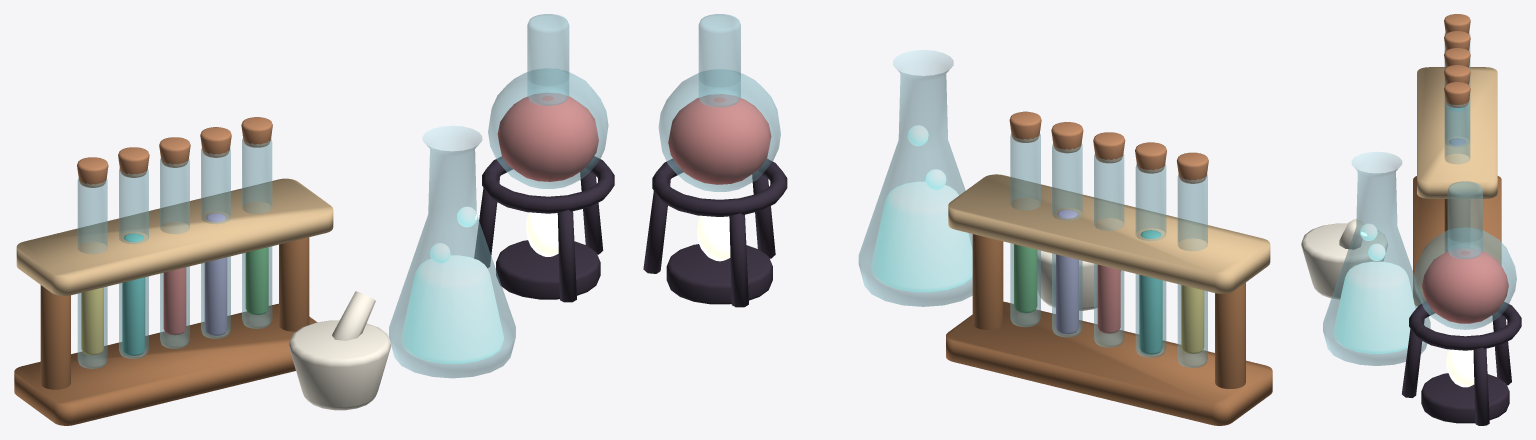
The model's file is chemistry-glassware-rack.glb.
The picture shows the model from 3 angles, left to right: view 1: azimuth 30°, elevation 25°; view 2: azimuth 150°, elevation 25°; view 3: azimuth 270°, elevation 25°; orthographic projection. The views are drawn at different scales.
Parts seen in each view (by area): view 1: LabGlasswareRack_Glassware, LabGlasswareRack_WoodBase, LabGlasswareRack_WoodLightTop, LabGlasswareRack_SlateStand, LabGlasswareRack_GlowTealFlask, LabGlasswareRack_CoralLiquid, LabGlasswareRack_CreamMortar, LabGlasswareRack_TerracottaCorks, LabGlasswareRack_LavenderLiquid, LabGlasswareRack_TurquoiseLiquid, LabGlasswareRack_LeafGreenLiquid, LabGlasswareRack_ButterLiquid (+1 smaller); view 2: LabGlasswareRack_Glassware, LabGlasswareRack_WoodBase, LabGlasswareRack_WoodLightTop, LabGlasswareRack_SlateStand, LabGlasswareRack_GlowTealFlask, LabGlasswareRack_CoralLiquid, LabGlasswareRack_TerracottaCorks, LabGlasswareRack_TurquoiseLiquid, LabGlasswareRack_LavenderLiquid, LabGlasswareRack_CreamMortar, LabGlasswareRack_LeafGreenLiquid, LabGlasswareRack_ButterLiquid (+1 smaller); view 3: LabGlasswareRack_Glassware, LabGlasswareRack_WoodLightTop, LabGlasswareRack_SlateStand, LabGlasswareRack_GlowTealFlask, LabGlasswareRack_WoodBase, LabGlasswareRack_CoralLiquid, LabGlasswareRack_CreamMortar, LabGlasswareRack_TerracottaCorks, LabGlasswareRack_GlowBurner.
Boxes of the visible parts, x1,y1,x2,y2 form: LabGlasswareRack_Glassware: [77, 14, 608, 378]; LabGlasswareRack_WoodBase: [14, 237, 317, 425]; LabGlasswareRack_WoodLightTop: [16, 178, 333, 295]; LabGlasswareRack_SlateStand: [474, 156, 614, 302]; LabGlasswareRack_GlowTealFlask: [401, 206, 503, 363]; LabGlasswareRack_CoralLiquid: [163, 93, 598, 335]; LabGlasswareRack_CreamMortar: [289, 291, 390, 410]; LabGlasswareRack_TerracottaCorks: [77, 117, 272, 187]; LabGlasswareRack_LavenderLiquid: [204, 213, 227, 335]; LabGlasswareRack_TurquoiseLiquid: [122, 233, 145, 355]; LabGlasswareRack_LeafGreenLiquid: [245, 247, 268, 315]; LabGlasswareRack_ButterLiquid: [81, 287, 103, 355]; LabGlasswareRack_Glassware: [658, 14, 1207, 367]; LabGlasswareRack_WoodBase: [946, 234, 1272, 425]; LabGlasswareRack_WoodLightTop: [948, 174, 1270, 293]; LabGlasswareRack_SlateStand: [643, 158, 787, 307]; LabGlasswareRack_GlowTealFlask: [871, 125, 972, 292]; LabGlasswareRack_CoralLiquid: [668, 94, 1120, 333]; LabGlasswareRack_TerracottaCorks: [1009, 111, 1208, 183]; LabGlasswareRack_TurquoiseLiquid: [1139, 230, 1162, 354]; LabGlasswareRack_LavenderLiquid: [1056, 209, 1078, 334]; LabGlasswareRack_CreamMortar: [1037, 250, 1097, 310]; LabGlasswareRack_LeafGreenLiquid: [1014, 244, 1037, 313]; LabGlasswareRack_ButterLiquid: [1181, 285, 1204, 353]; LabGlasswareRack_Glassware: [1323, 32, 1516, 365]; LabGlasswareRack_WoodLightTop: [1417, 67, 1497, 198]; LabGlasswareRack_SlateStand: [1402, 301, 1521, 425]; LabGlasswareRack_GlowTealFlask: [1333, 223, 1415, 353]; LabGlasswareRack_WoodBase: [1413, 176, 1501, 305]; LabGlasswareRack_CoralLiquid: [1422, 248, 1508, 323]; LabGlasswareRack_CreamMortar: [1301, 219, 1387, 299]; LabGlasswareRack_TerracottaCorks: [1444, 14, 1470, 107]; LabGlasswareRack_GlowBurner: [1446, 349, 1474, 387].
Size of the model in its own units: 0.7065 by 0.3 by 0.2739.
